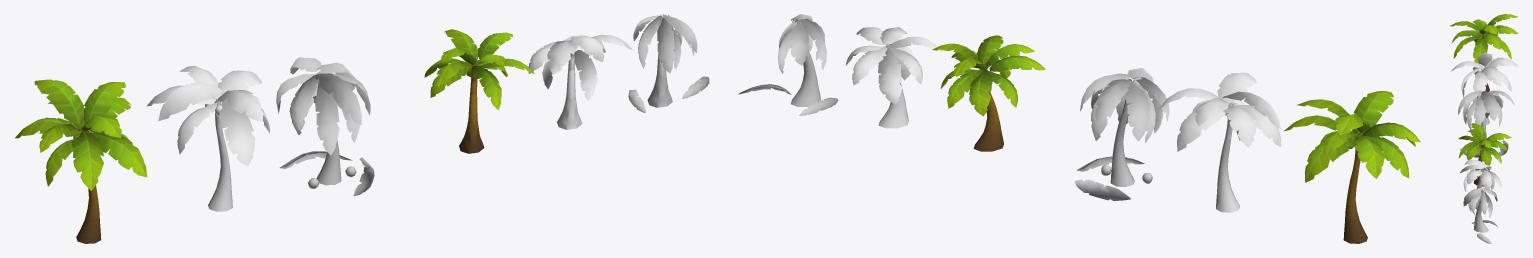
The model's file is SM_Coconut (1).fbx.
3 renders of one model, left to right at view 1: azimuth 30°, elevation 25°; view 2: azimuth 150°, elevation 25°; view 3: azimuth 270°, elevation 25°, orthographic. The views are drawn at different scales.
Visible parts, largest first — view 1: SM_Coconut2_good, SM_Coconut2_bad, SM_Coconut2_dead, polySurface18, polySurface1, polySurface7, polySurface30, polySurface26, polySurface21, polySurface3, polySurface31, polySurface8 (+14 smaller); view 2: SM_Coconut2_good, SM_Coconut2_bad, SM_Coconut2_dead, polySurface13, polySurface26, polySurface40, polySurface37, polySurface2, polySurface24, polySurface11, polySurface23, polySurface36 (+16 smaller); view 3: SM_Coconut2_good, SM_Coconut2_dead, SM_Coconut2_bad, polySurface33, polySurface35, polySurface19, polySurface20, polySurface6, polySurface22, polySurface4, polySurface3, polySurface1 (+19 smaller).
Part boxes in pixels (x1,y1,x2,y2): SM_Coconut2_good: (424,29,534,153); SM_Coconut2_bad: (528,34,632,129); SM_Coconut2_dead: (633,14,697,107); polySurface18: (219,98,255,166); polySurface1: (72,130,103,190); polySurface7: (34,79,83,127); polySurface30: (315,86,339,155); polySurface26: (208,99,232,211); polySurface21: (158,82,222,120); polySurface3: (88,132,147,177); polySurface31: (315,73,361,125); polySurface8: (84,82,125,123); SM_Coconut2_good: (932,35,1045,151); SM_Coconut2_bad: (845,27,942,128); SM_Coconut2_dead: (778,14,826,106); polySurface13: (1343,134,1367,243); polySurface26: (1216,103,1239,212); polySurface40: (1110,79,1134,186); polySurface37: (1125,81,1150,141); polySurface2: (1353,91,1393,134); polySurface24: (1177,104,1228,151); polySurface11: (1304,135,1356,182); polySurface23: (1223,105,1256,147); polySurface36: (1095,79,1129,123); SM_Coconut2_good: (1458,123,1511,186); SM_Coconut2_dead: (1463,187,1497,232); SM_Coconut2_bad: (1460,160,1501,209); polySurface33: (1480,91,1497,121); polySurface35: (1473,97,1486,125); polySurface19: (1481,66,1501,86); polySurface20: (1473,69,1487,91); polySurface6: (1473,36,1488,63); polySurface22: (1487,58,1518,67); polySurface4: (1482,34,1501,49); polySurface3: (1453,35,1480,58); polySurface1: (1451,30,1481,43).
Bounding box in the file's own units: 1113 × 225 × 195.
